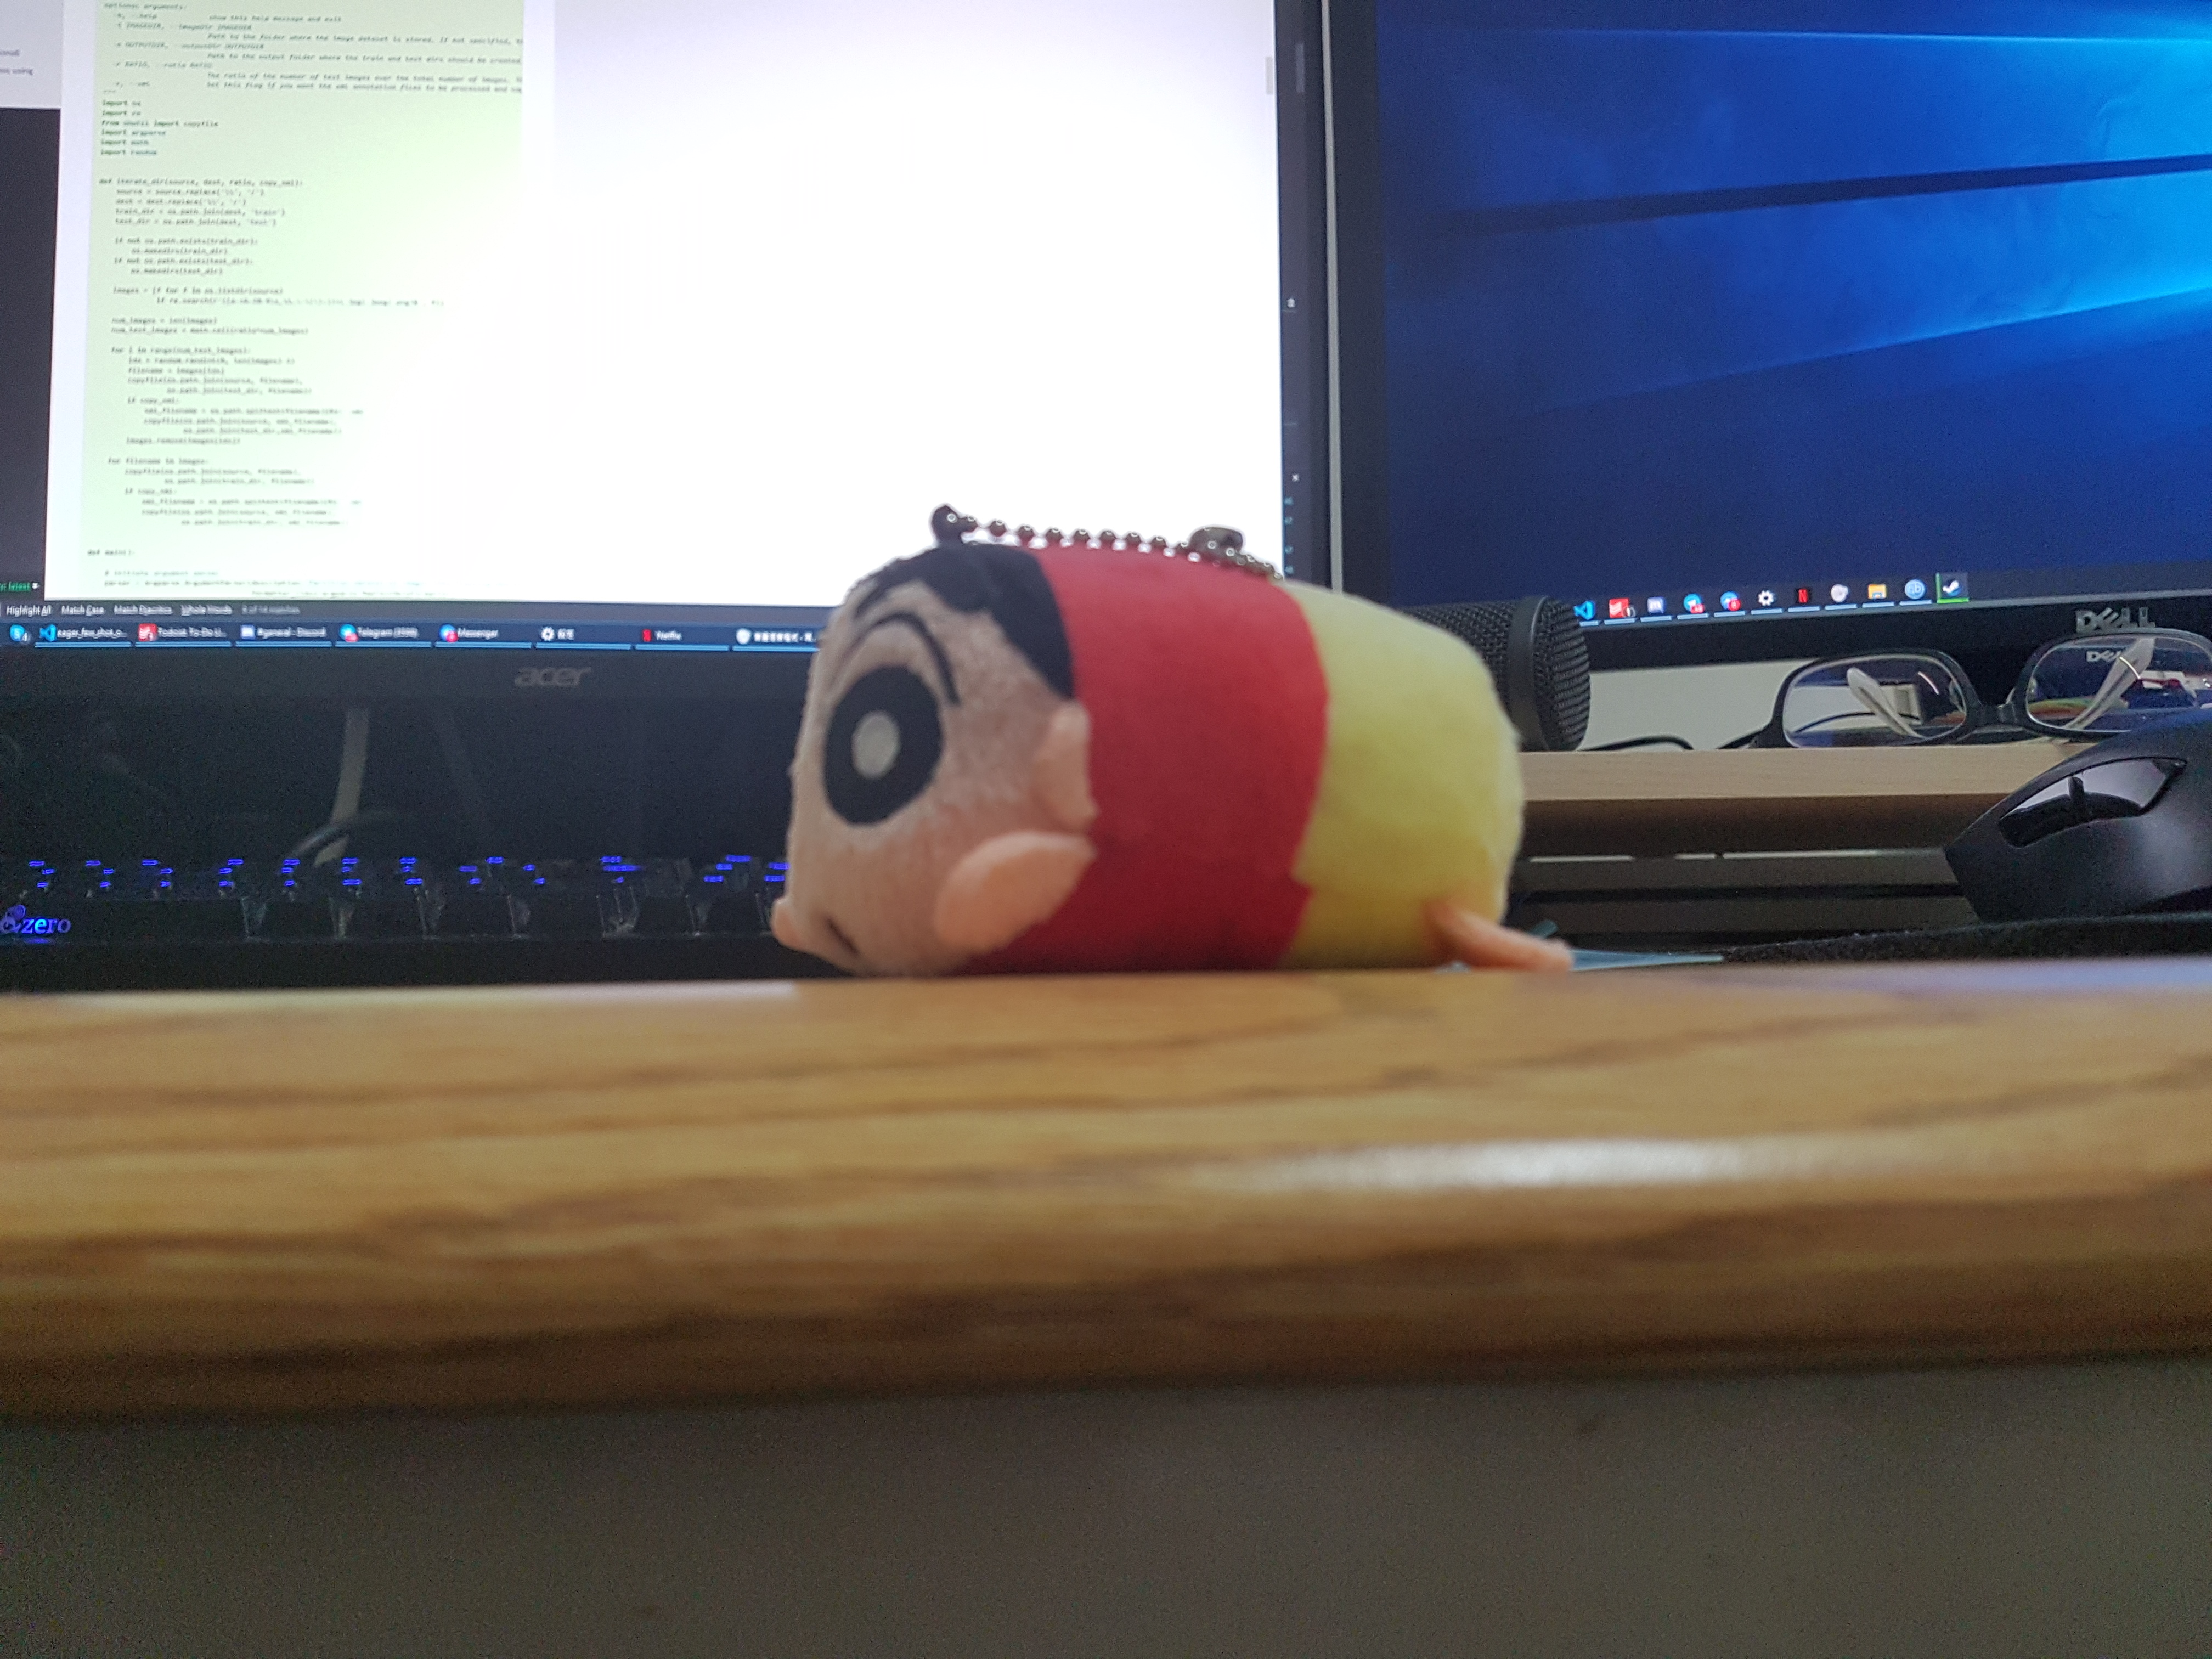stuffed toy: (770, 509, 1580, 971)
